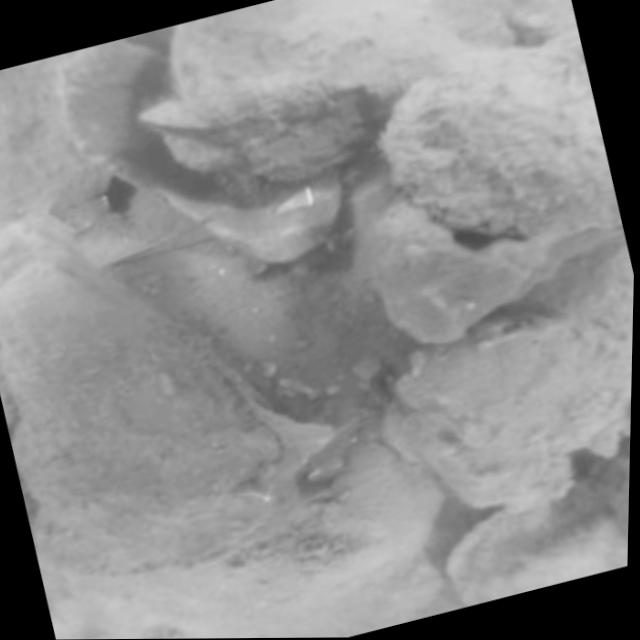Oyster-Indeterminate: (0, 268, 282, 585), (55, 39, 341, 267), (167, 0, 508, 170), (419, 245, 633, 504), (377, 37, 609, 239), (237, 439, 433, 577)
